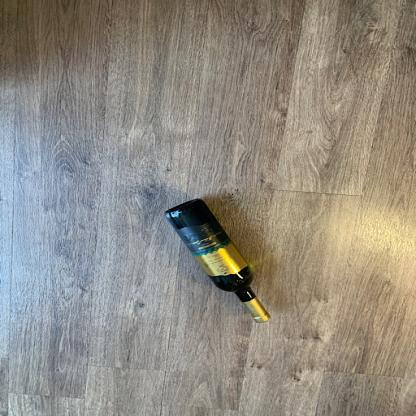trash: (162, 198, 278, 324)
